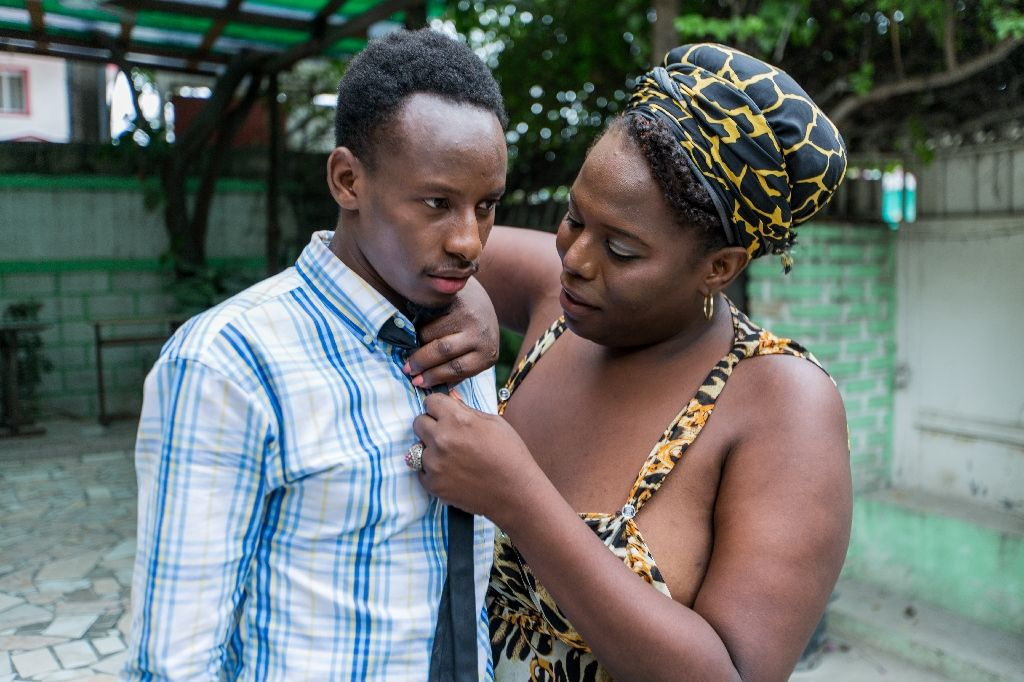Person: (409, 31, 868, 682), (118, 24, 509, 682)
